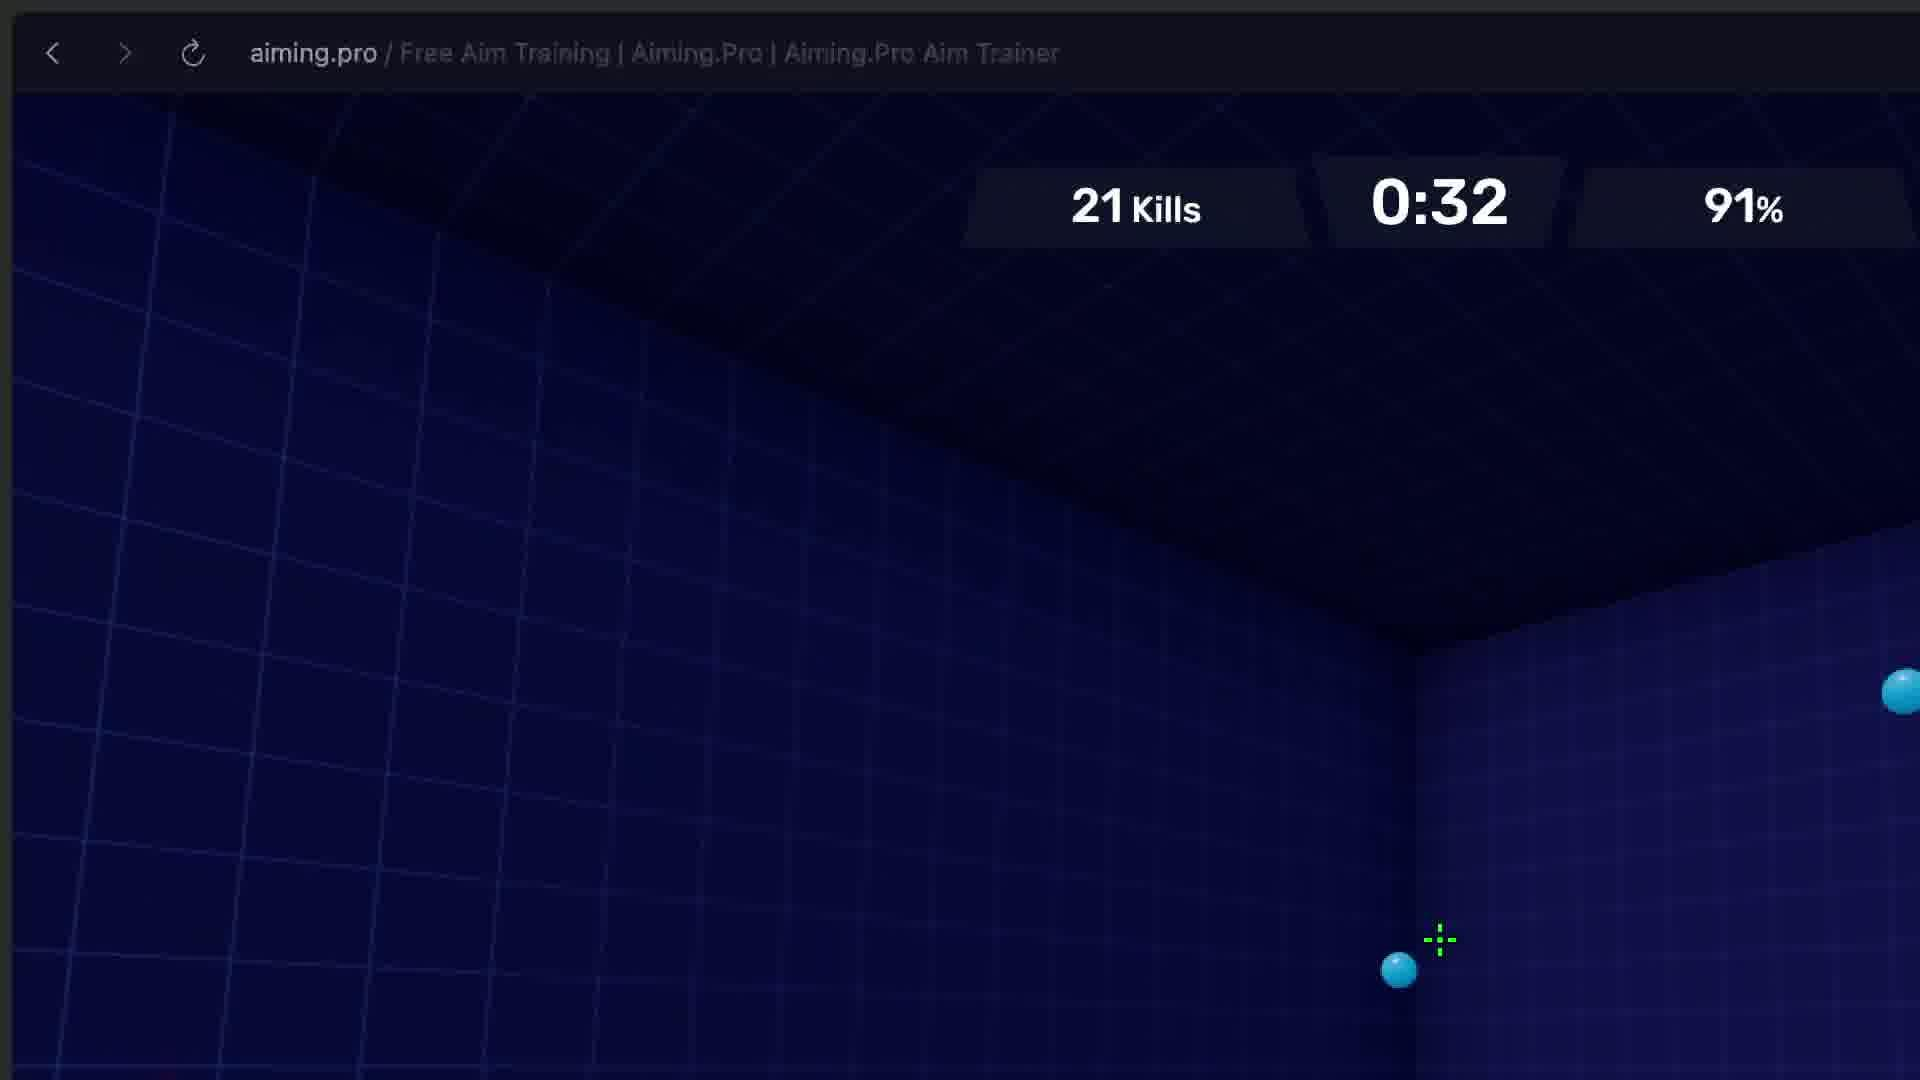target: (1381, 952, 1416, 988)
